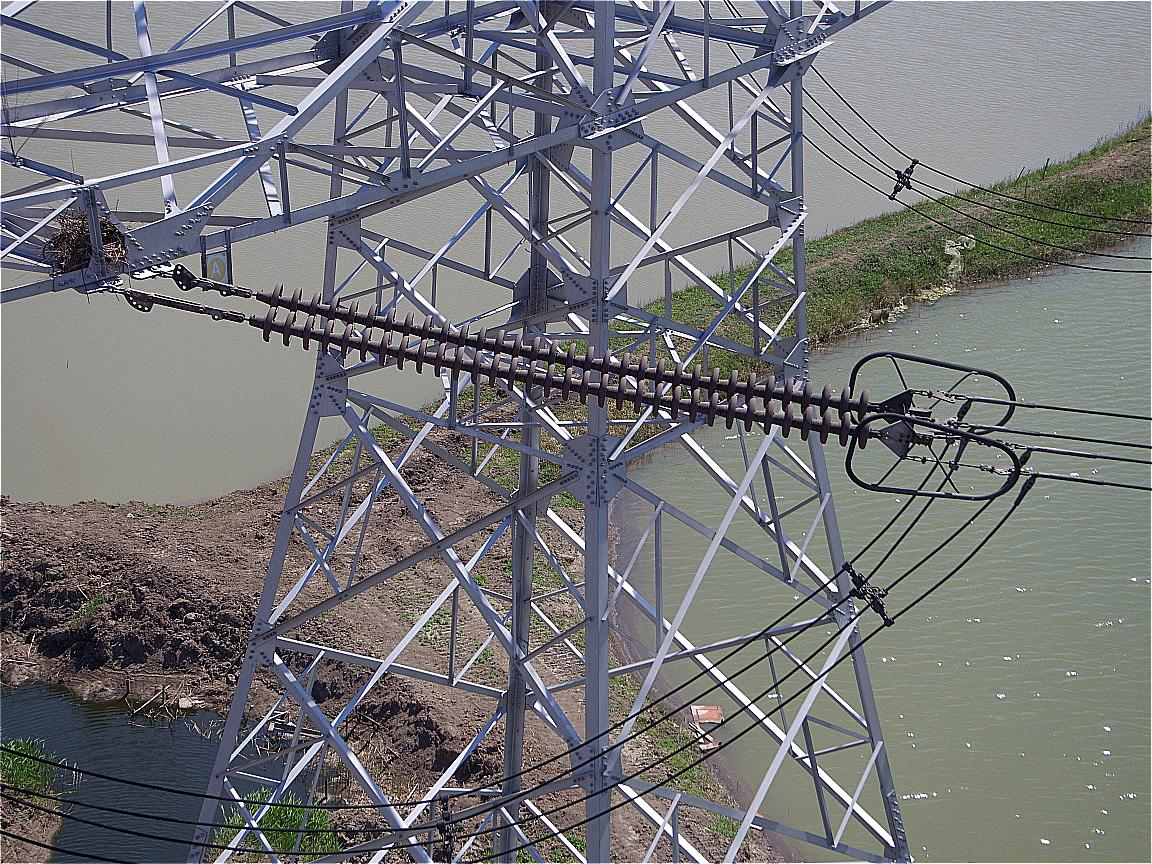insultor1: (242, 276, 889, 453)
